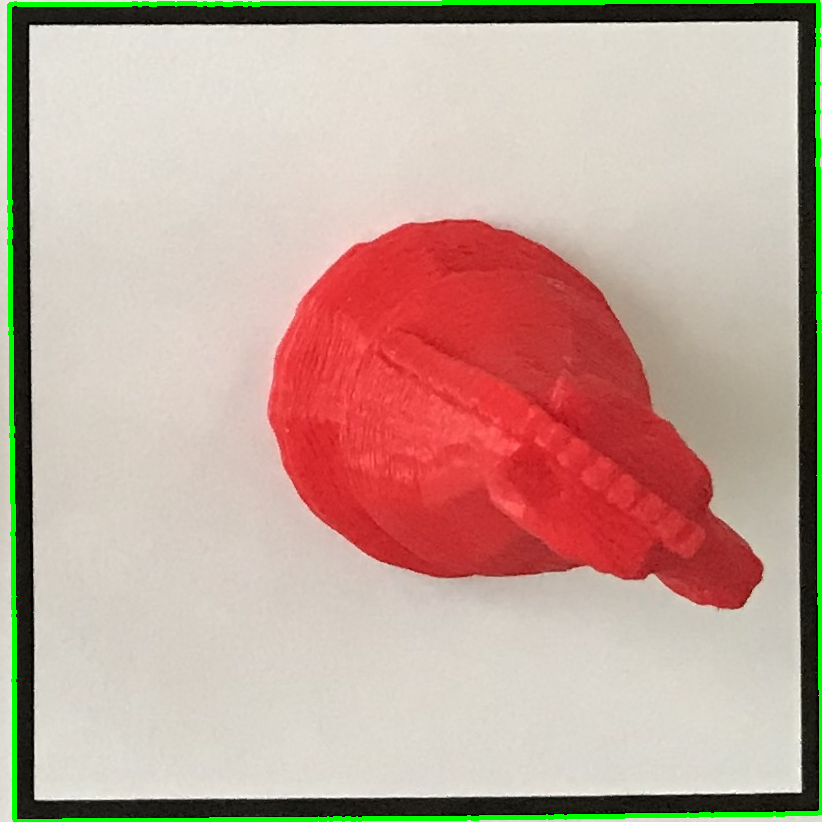Red Knight: (263, 200, 771, 624)
